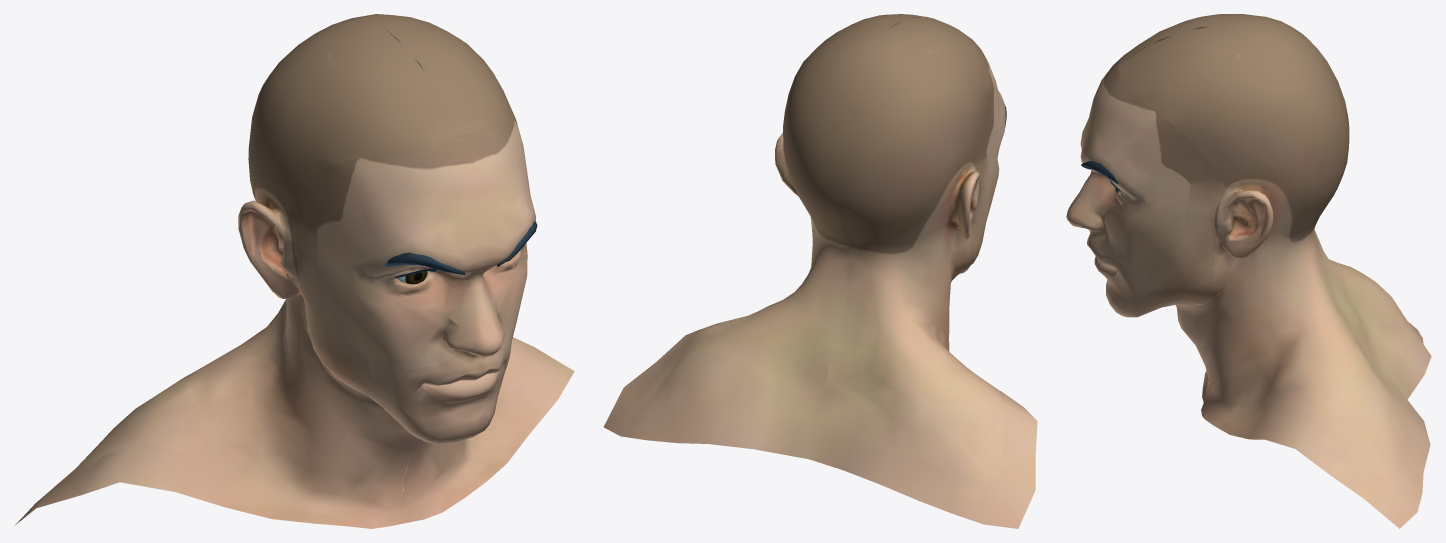
File: male_head.glb
3 views of the same model, side by side, from view 1: azimuth 30°, elevation 25°; view 2: azimuth 150°, elevation 25°; view 3: azimuth 270°, elevation 25° (orthographic). The views are drawn at different scales.
Parts seen in each view (by area): view 1: StaticMeshDemo.001; view 2: StaticMeshDemo.001; view 3: StaticMeshDemo.001.
Boxes of the visible parts, box(x1,y1,x2,y2) form: StaticMeshDemo.001: box(15, 14, 574, 528); StaticMeshDemo.001: box(603, 14, 1037, 528); StaticMeshDemo.001: box(1066, 14, 1431, 528).
Bounding box in the file's own units: 0.4115 × 0.372 × 0.3056.
Materials: 1 (1 with a texture image).
